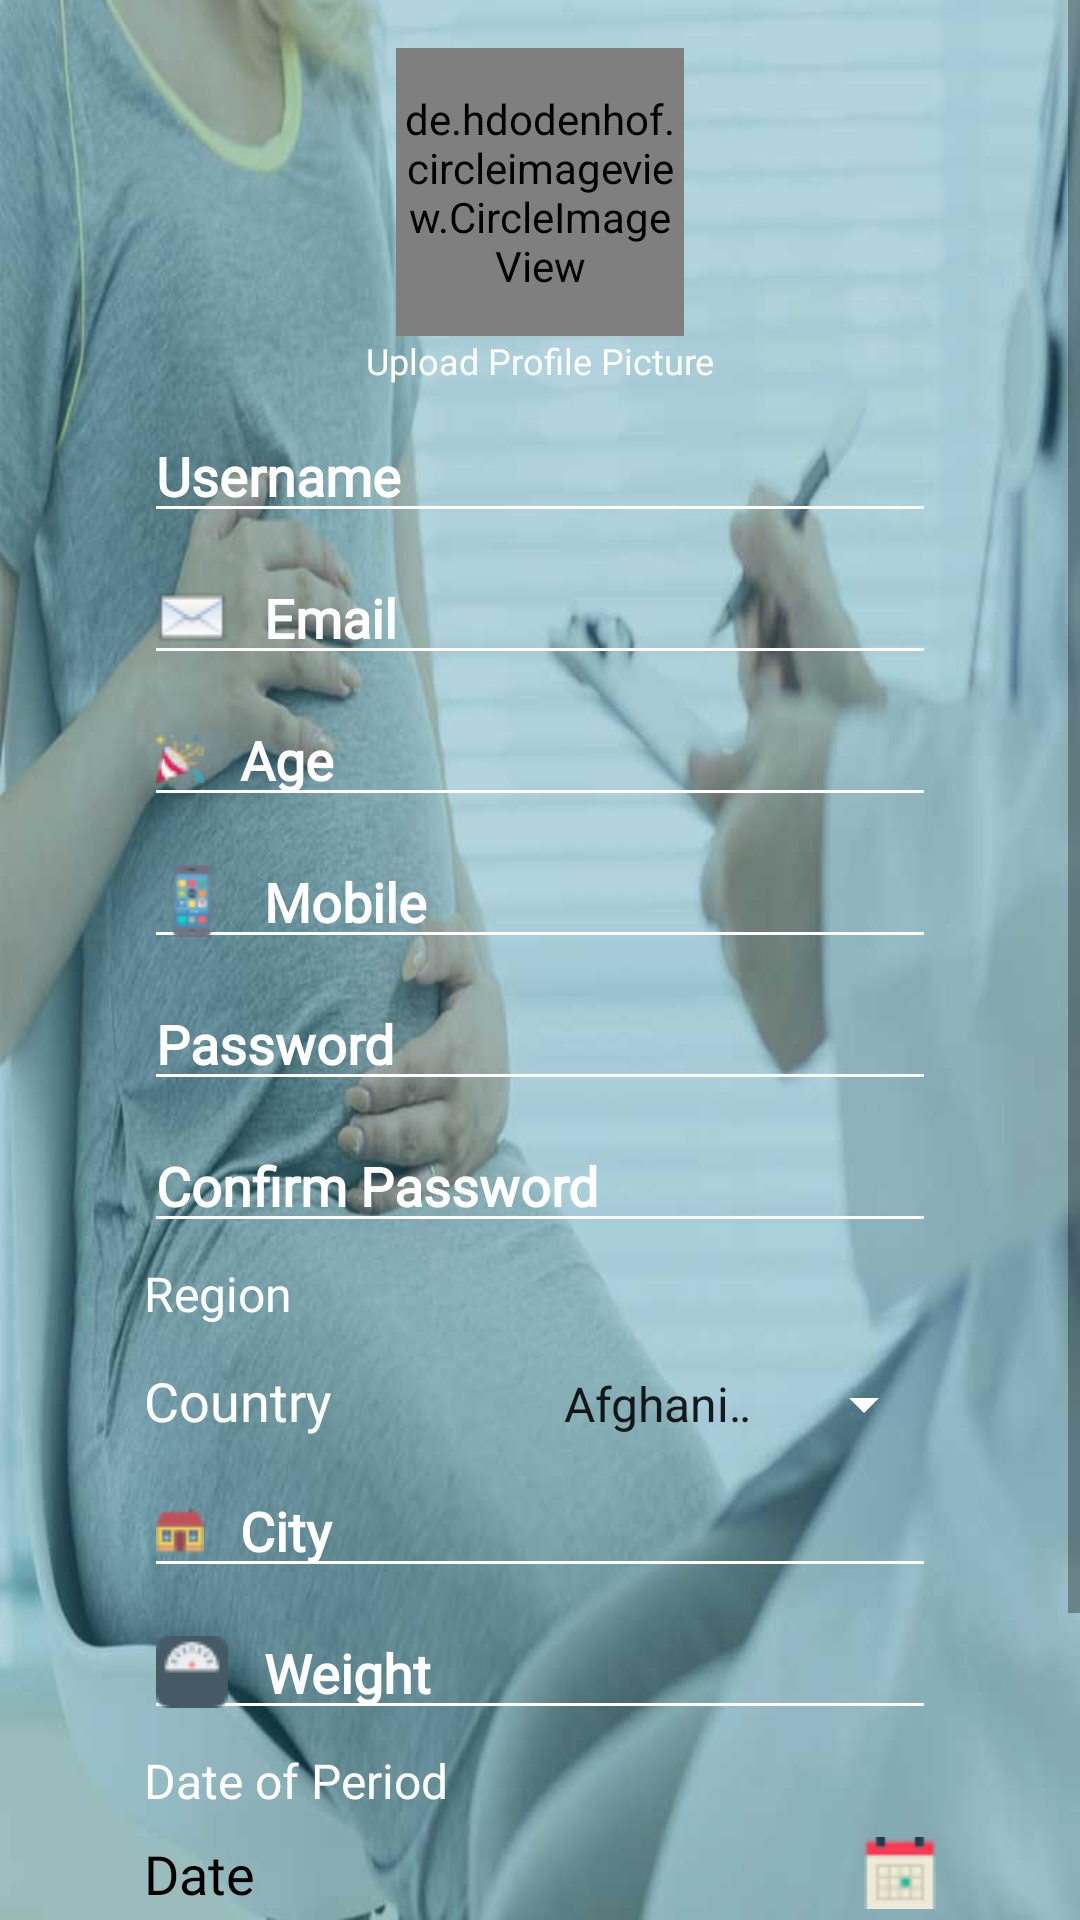

Screen size 1080*1920. Icon name, then its center in pixels as point (x, y):
calendar: point (901, 1873)
